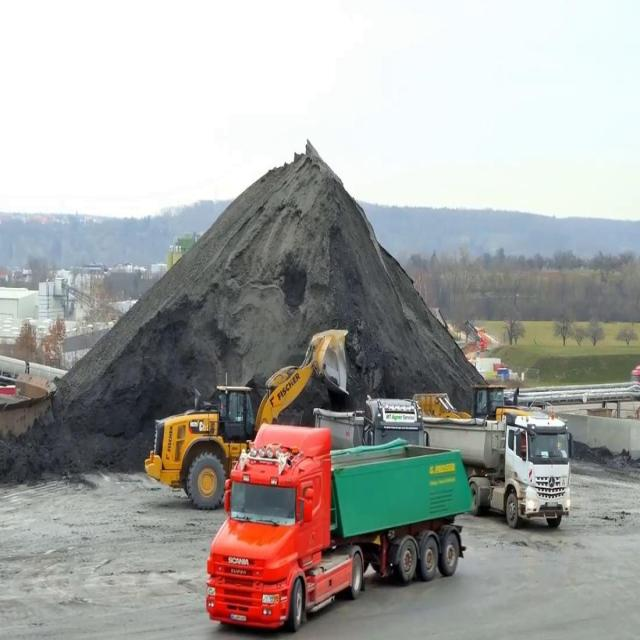buldozerpayloadergrader: (140, 326, 350, 511), (410, 384, 556, 421)
dump_truck: (202, 419, 473, 632), (421, 406, 573, 529), (311, 393, 431, 447)
